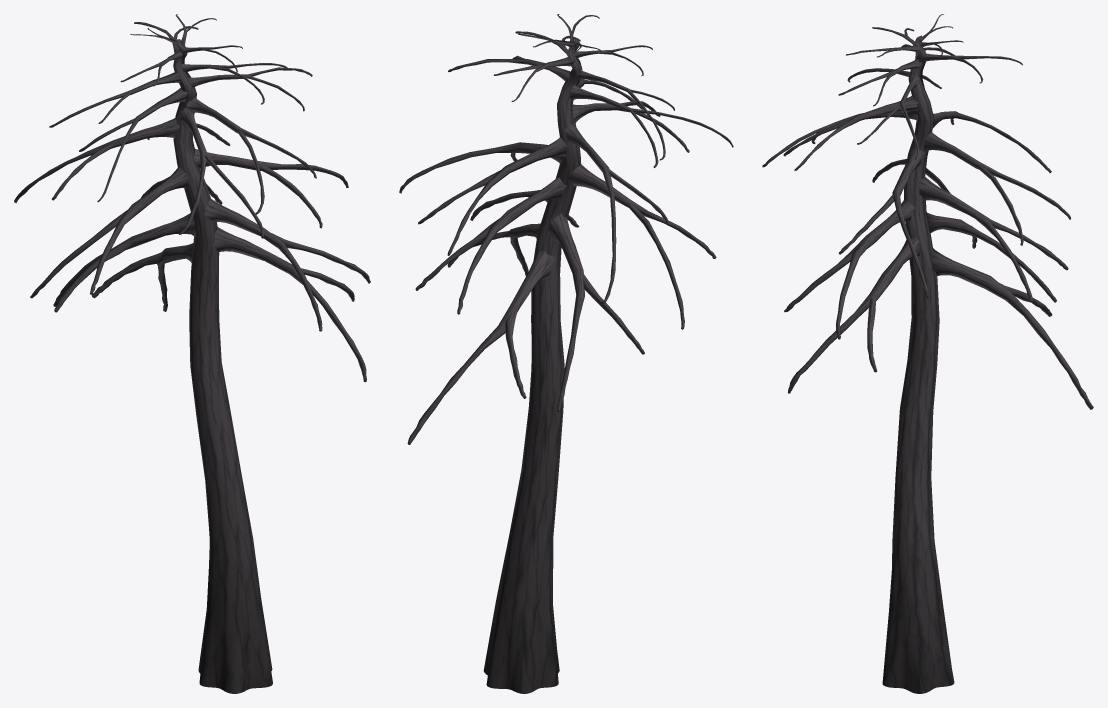
The model's file is mega-dead-tree.glb.
The picture shows the model from 3 angles, left to right: view 1: azimuth 30°, elevation 25°; view 2: azimuth 150°, elevation 25°; view 3: azimuth 270°, elevation 25°; orthographic projection. The views are drawn at different scales.
Visible parts, largest first — view 1: DeadTree_3; view 2: DeadTree_3; view 3: DeadTree_3.
Boxes of the visible parts, left/top/right/bottom form: DeadTree_3: left=14, top=14, right=370, bottom=693; DeadTree_3: left=399, top=14, right=733, bottom=693; DeadTree_3: left=762, top=14, right=1093, bottom=693.
Bounding box in the file's own units: 6.39 × 13.28 × 6.43.
Materials: 1 (1 with a texture image).
